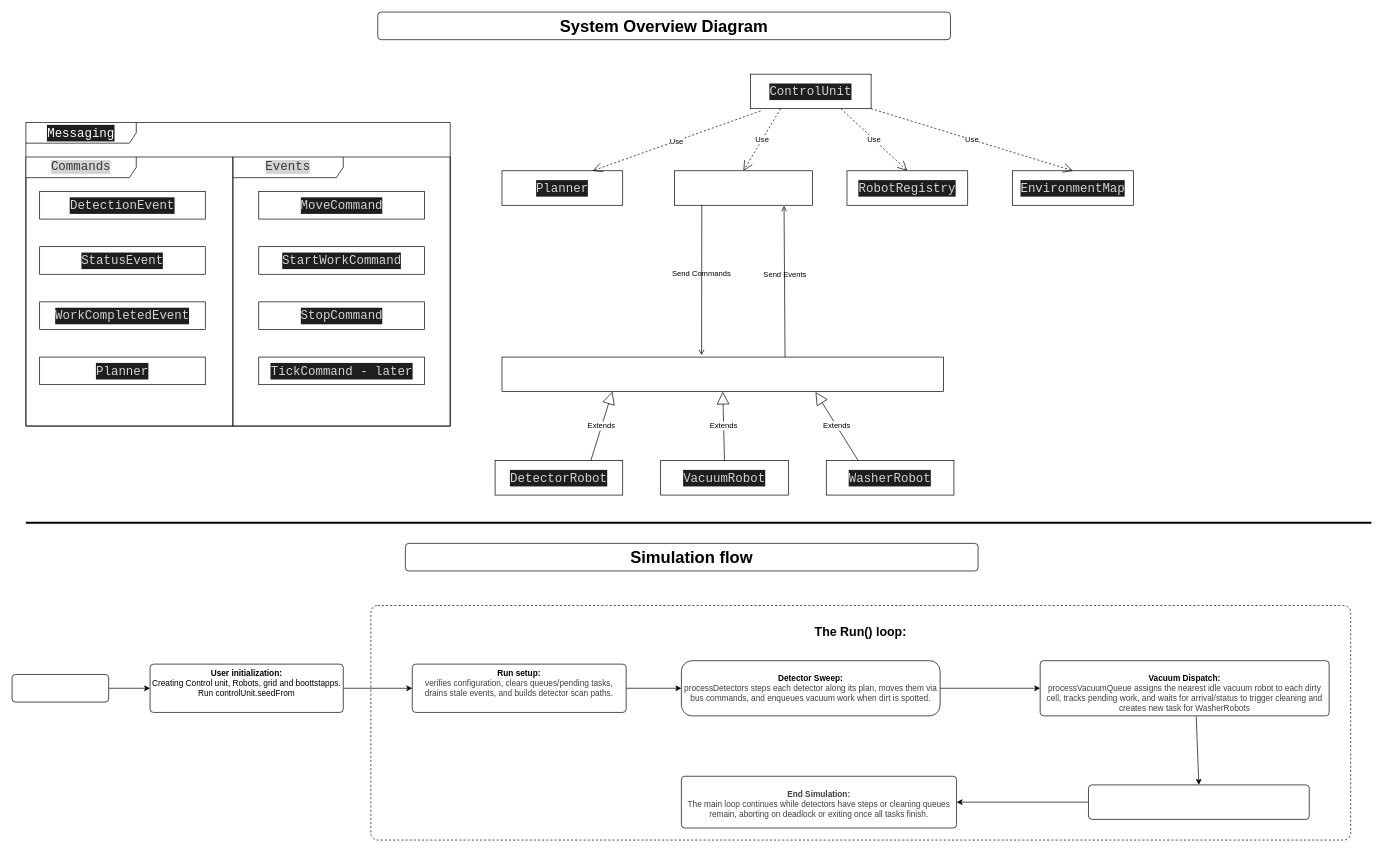
The diagram is 1385 pixels wide and 852 high, and some of its shapes have lost their labels. The shapes that lost their labels are listed below. From the top down, each one's centre as x and y in pixels, then its label:
At (x=743, y=187): "Bus".
At (x=722, y=374): "RobotBase".
At (x=60, y=688): "start".
At (x=1198, y=801): "Washer Dispatch: Same as Vacuum Dispatch for the washing tasks.".
